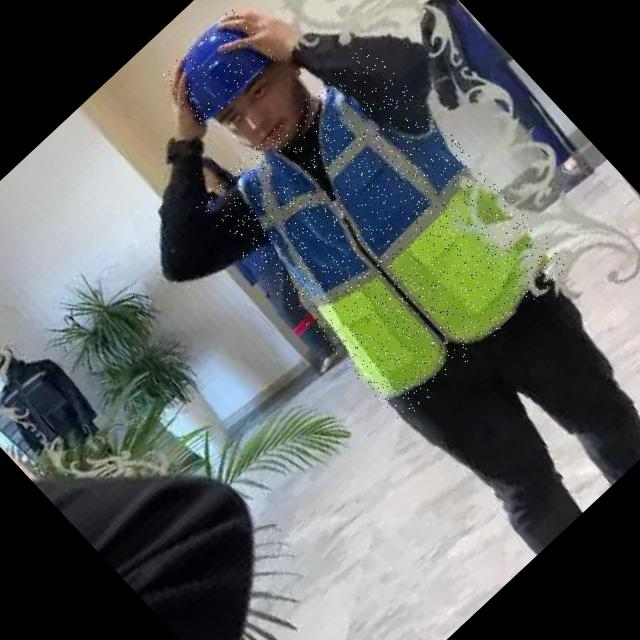hard_hat: (156, 8, 278, 128)
safety_vest: (194, 42, 573, 424)
